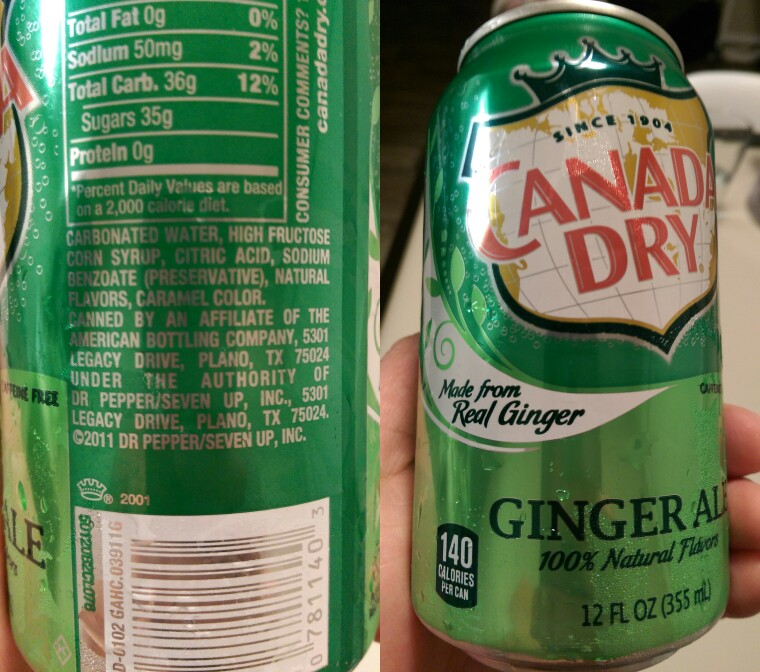Lata: (419, 2, 743, 670)
